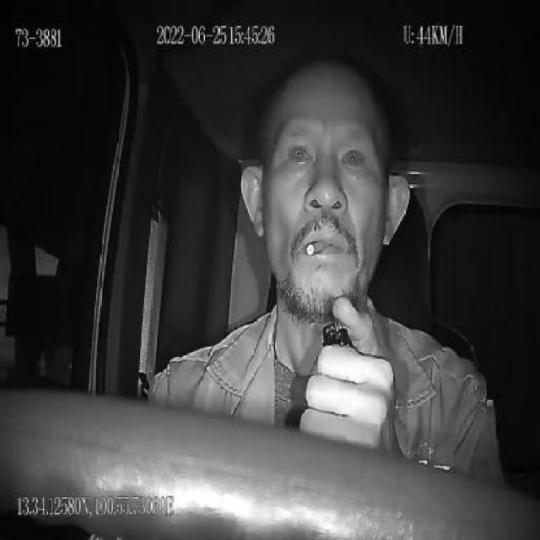smoking: (305, 241, 329, 255)
